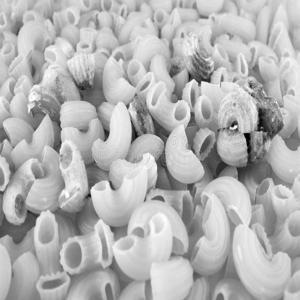pasta: (18, 21, 281, 288)
